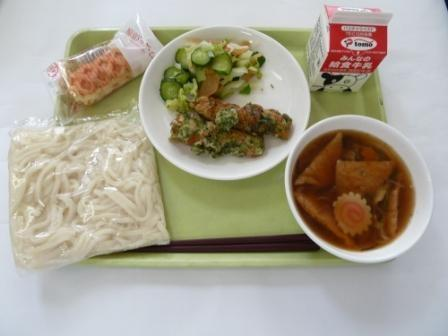Milk: (308, 4, 398, 96)
Salad: (158, 34, 272, 98)
Soups: (289, 120, 437, 267)
Udon: (7, 114, 164, 268)
cooked food based on meat: (164, 93, 292, 166)
pastry: (46, 30, 158, 100)
